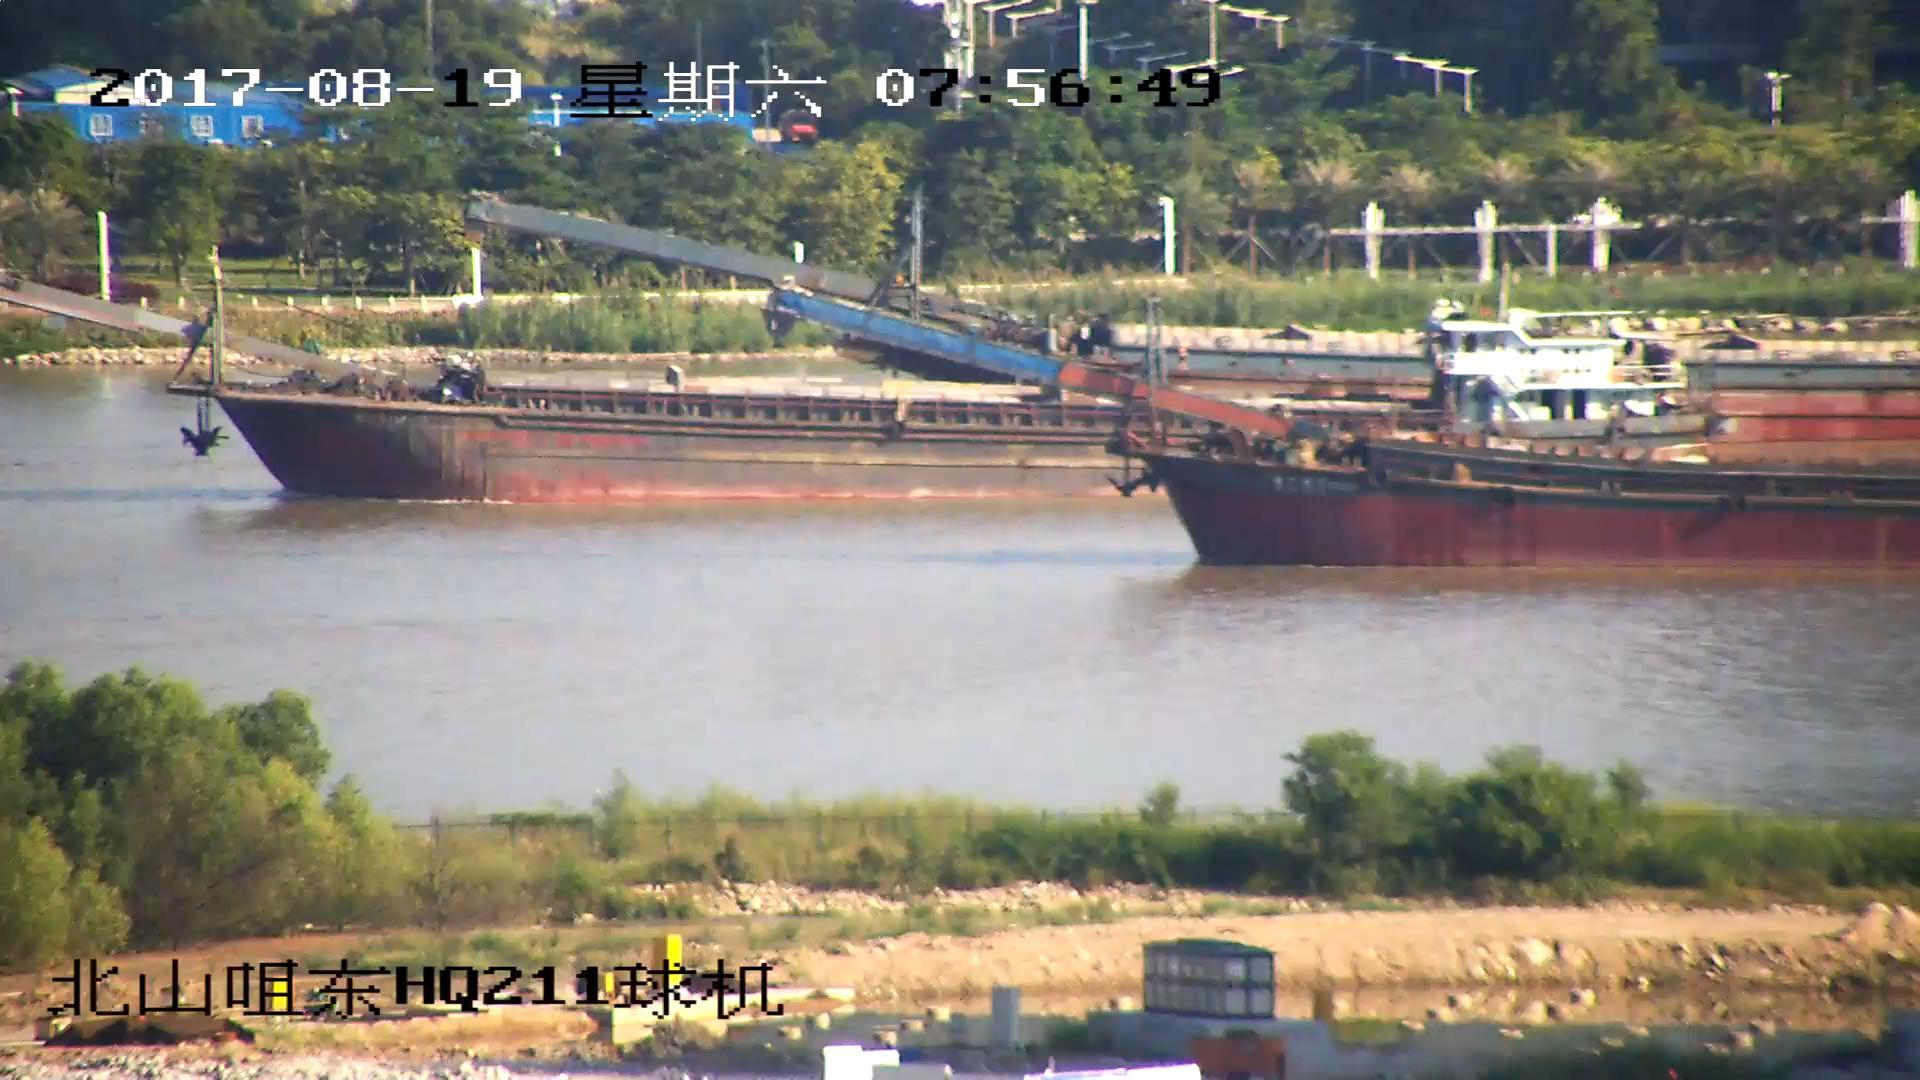Ship: (774, 299, 1920, 568), (479, 194, 1920, 393), (3, 258, 1110, 510)
